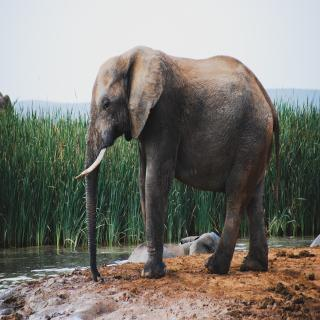Elephant: (73, 42, 285, 277)
